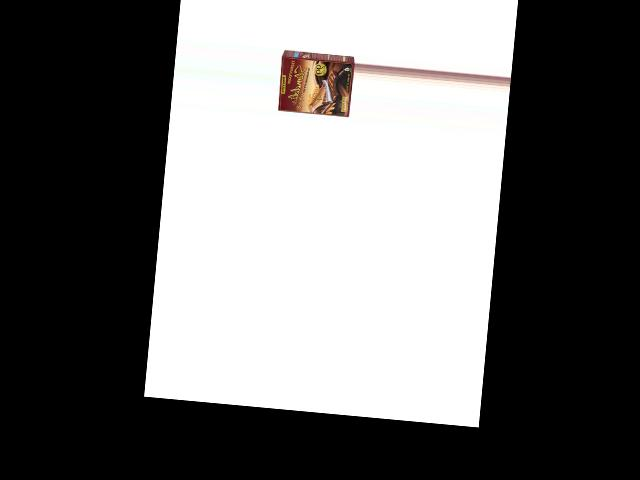chocolate: (275, 46, 356, 123)
